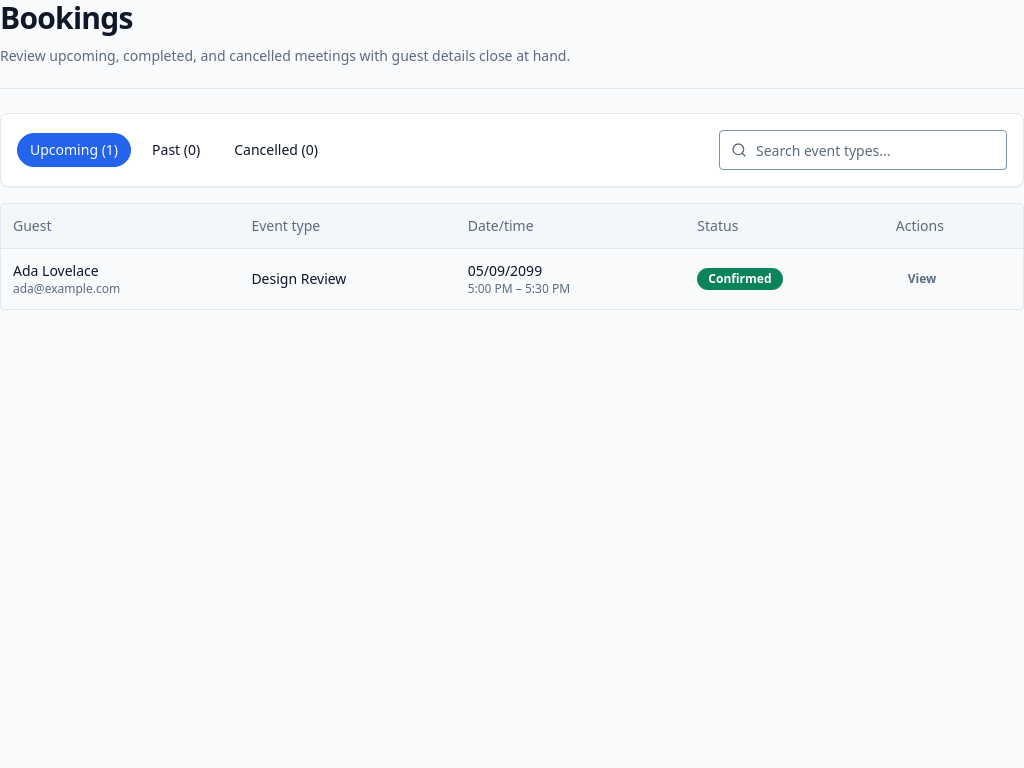
Test case: BookingsClient › shows structured answers in the booking detail drawer
The width and height of the screenshot is (1024, 768).
Click the button with aria-label "View booking with Ada Lovelace": (922,279) [896, 263, 948, 295]
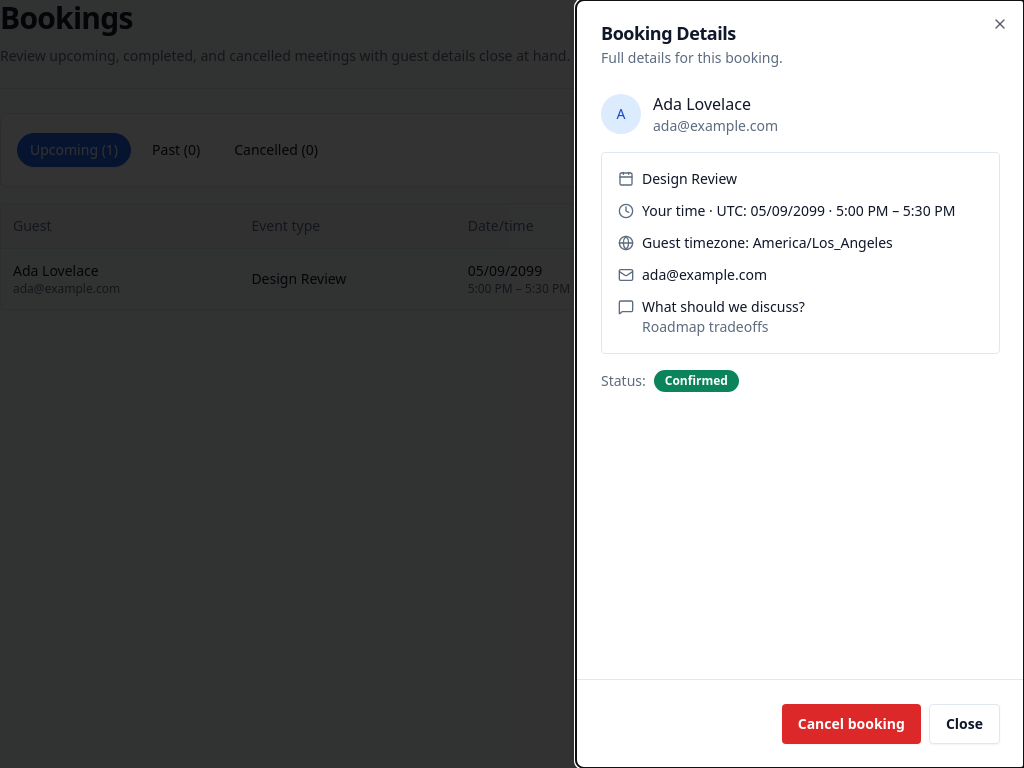
expect the text "What should we discuss?" is shown: met, box [642, 297, 805, 317]
expect the text "Roadmap tradeoffs" is shown: met, box [642, 317, 769, 336]
